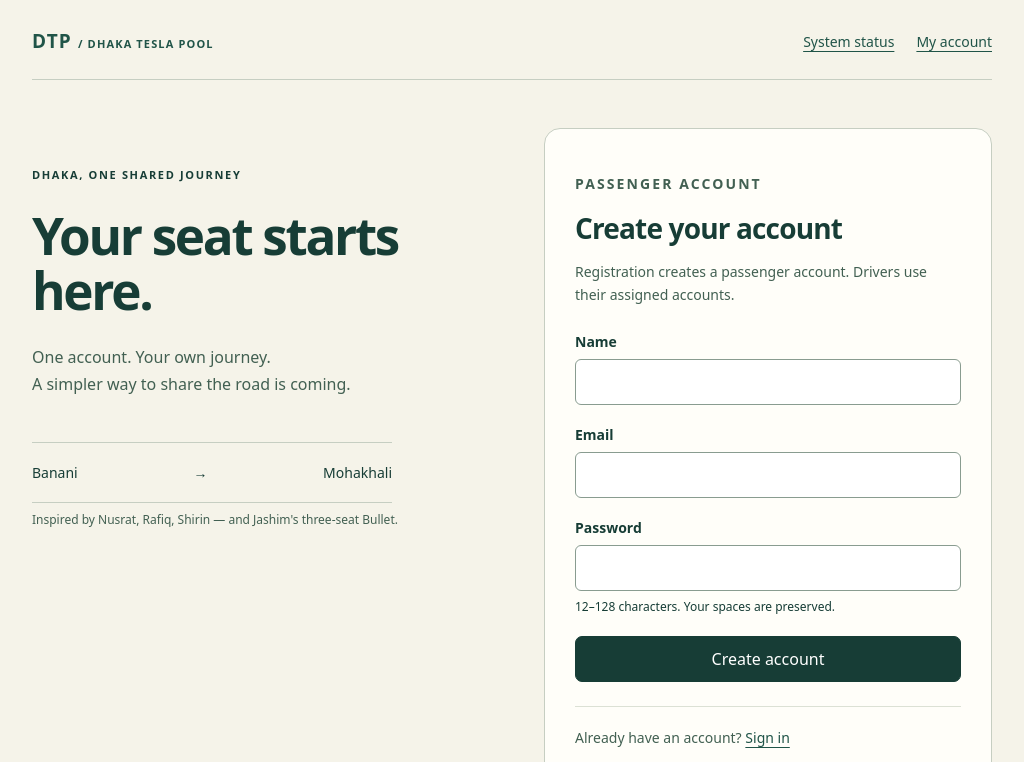
Test: authentication UI › handles registration duplicate with the appropriate next step
The image size is (1024, 762).
In the field labelled "Name": (768, 382) [575,359,961,405], type "Nusrat"
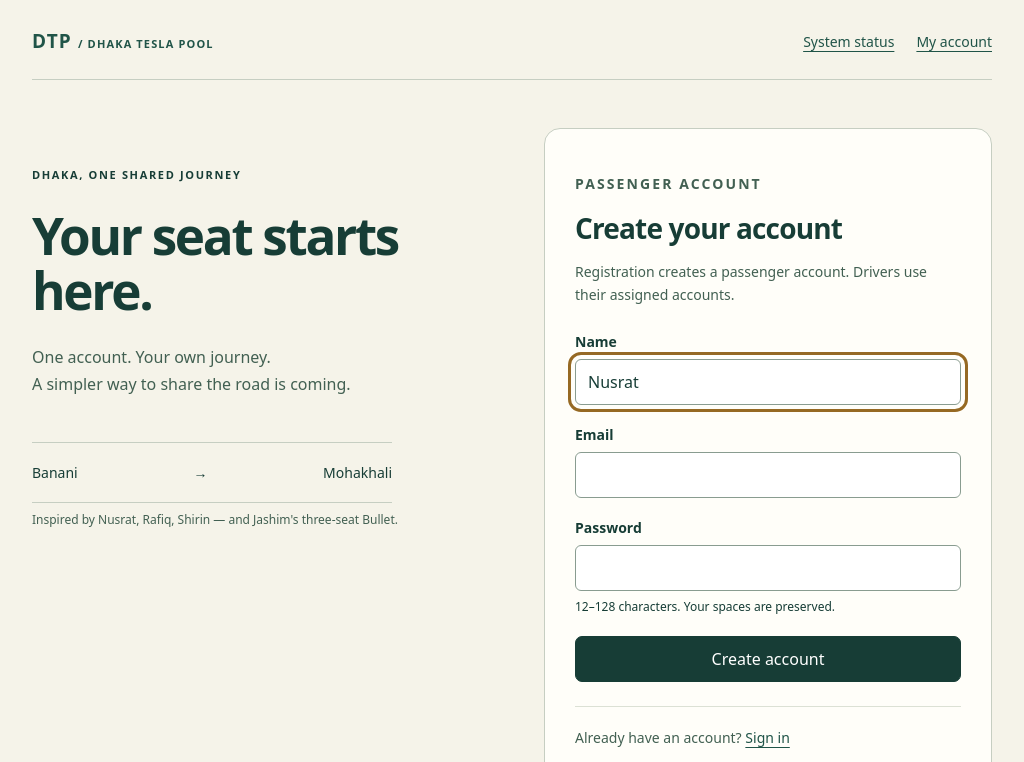
In the field labelled "Email": (768, 475) [575,452,961,498], type "nusrat@demo.dhaka.test"
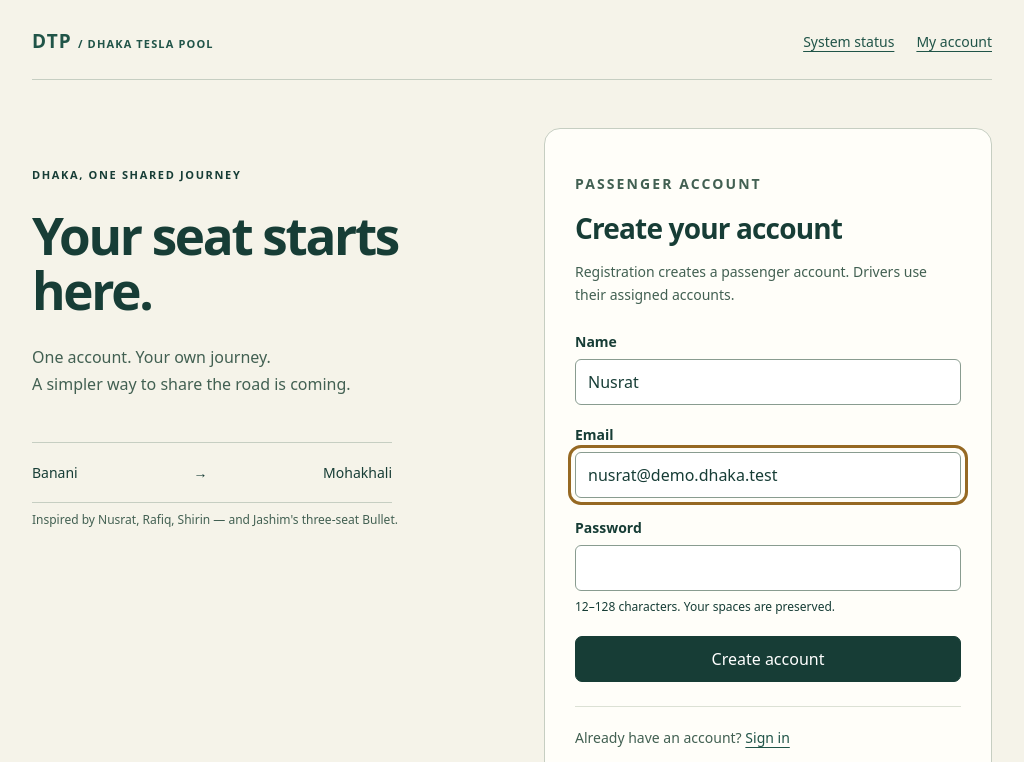
In the password field labelled "Password": (768, 568) [575,545,961,591], type "DemoOnly!Dhaka2026"
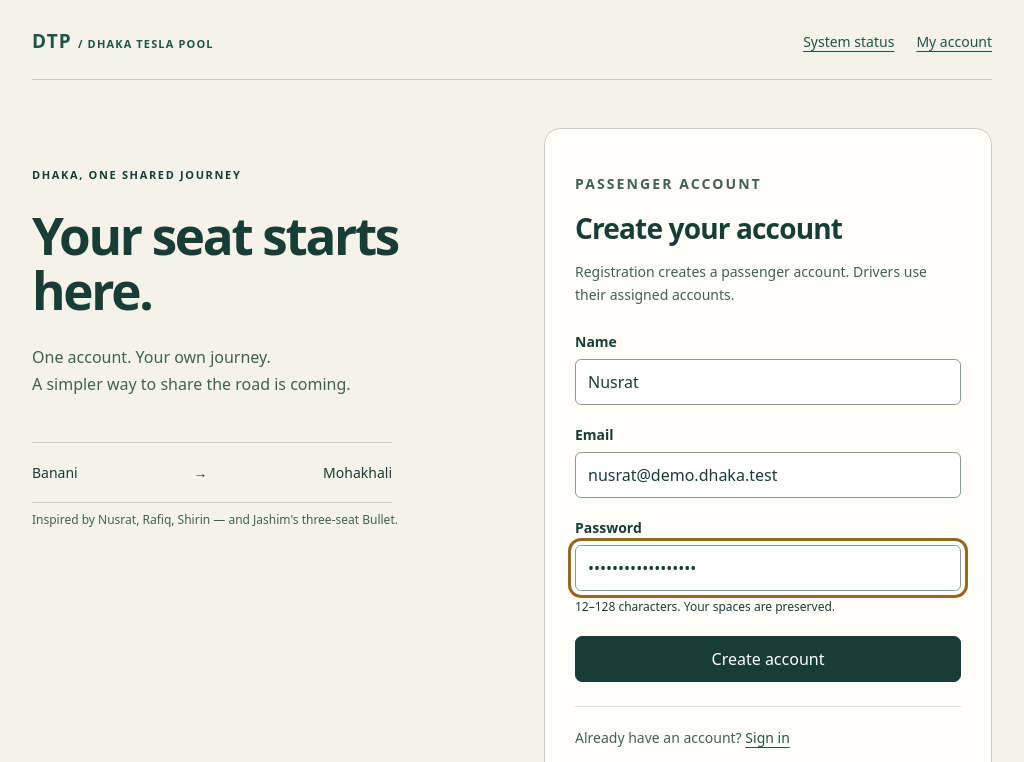
Click the button "Create account": (768, 659) [575,636,961,682]
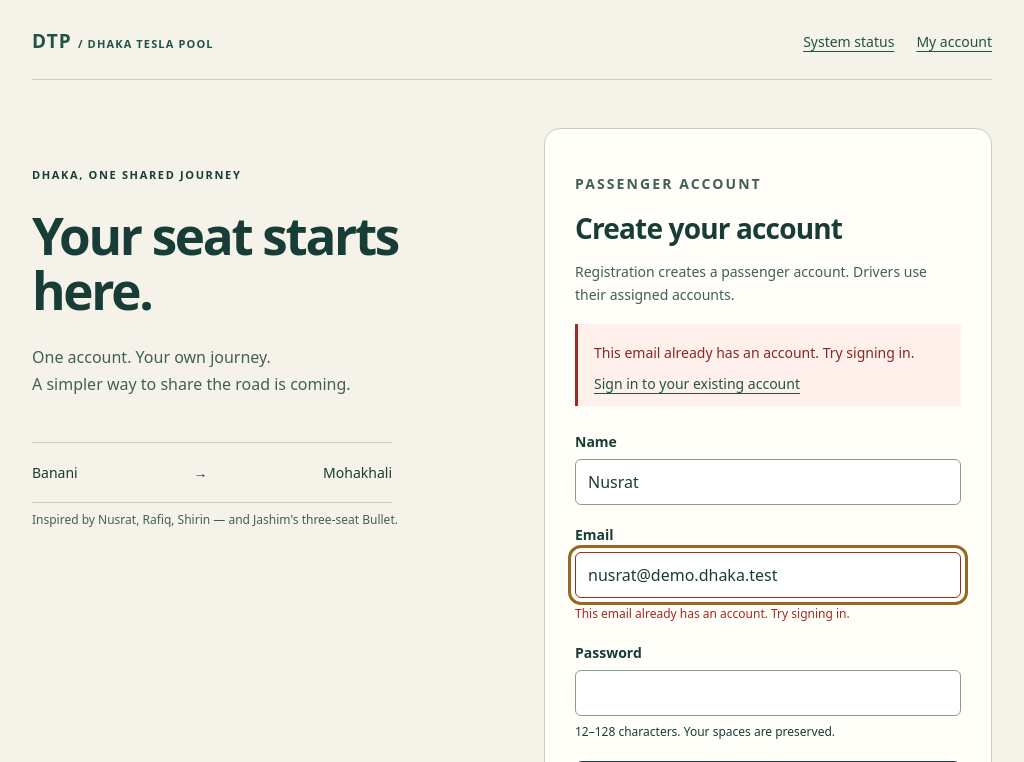
Expected: the message is shown, [575,324,961,406]
Expected: the password field labelled "Password" is empty, [575,670,961,716]
